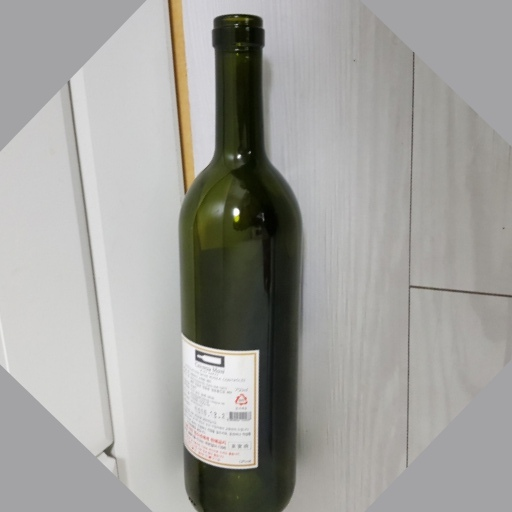Glass_2: (173, 11, 308, 512)
